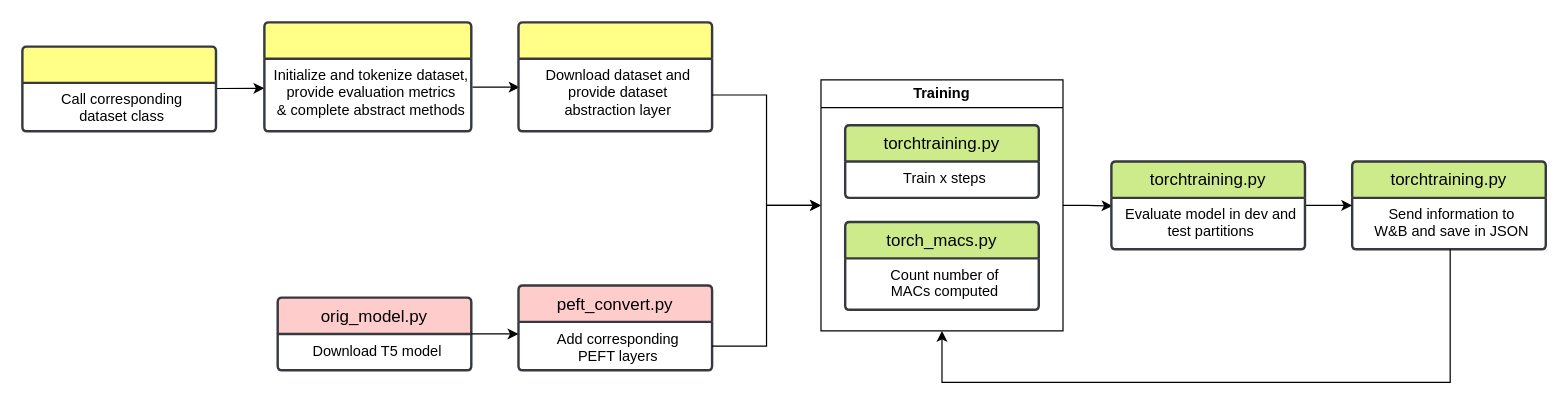
This 1567x413 diagram has some shape labels left out. Each missing label, with the box of its shape:
[dataset].py: (263, 21, 472, 132)
base_dataset.py: (517, 21, 713, 132)
dataset_downloader.py: (21, 45, 217, 132)
